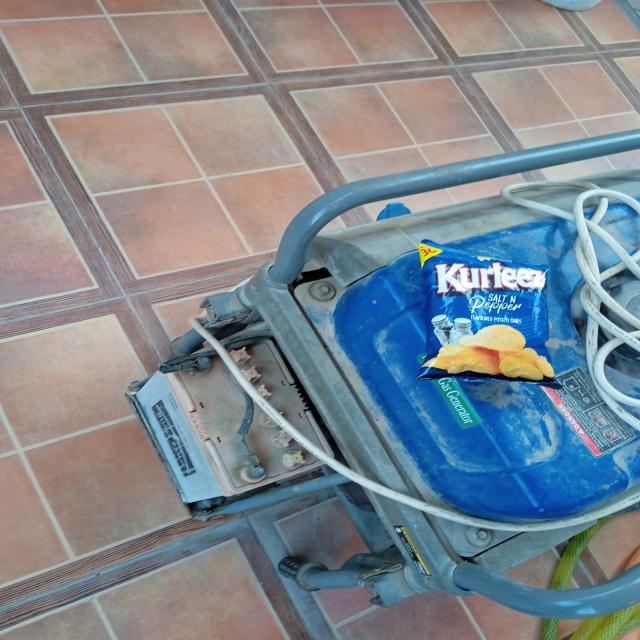Plastic: (410, 232, 568, 392)
